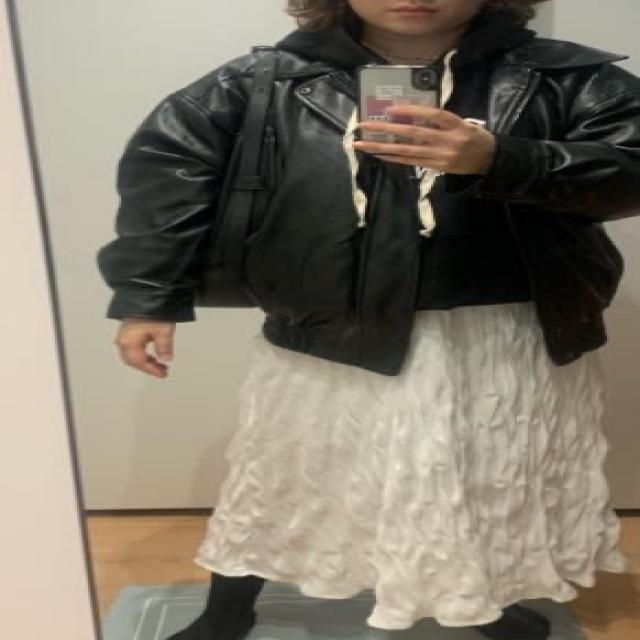jacket: (96, 21, 640, 377)
skirt: (198, 297, 629, 630)
